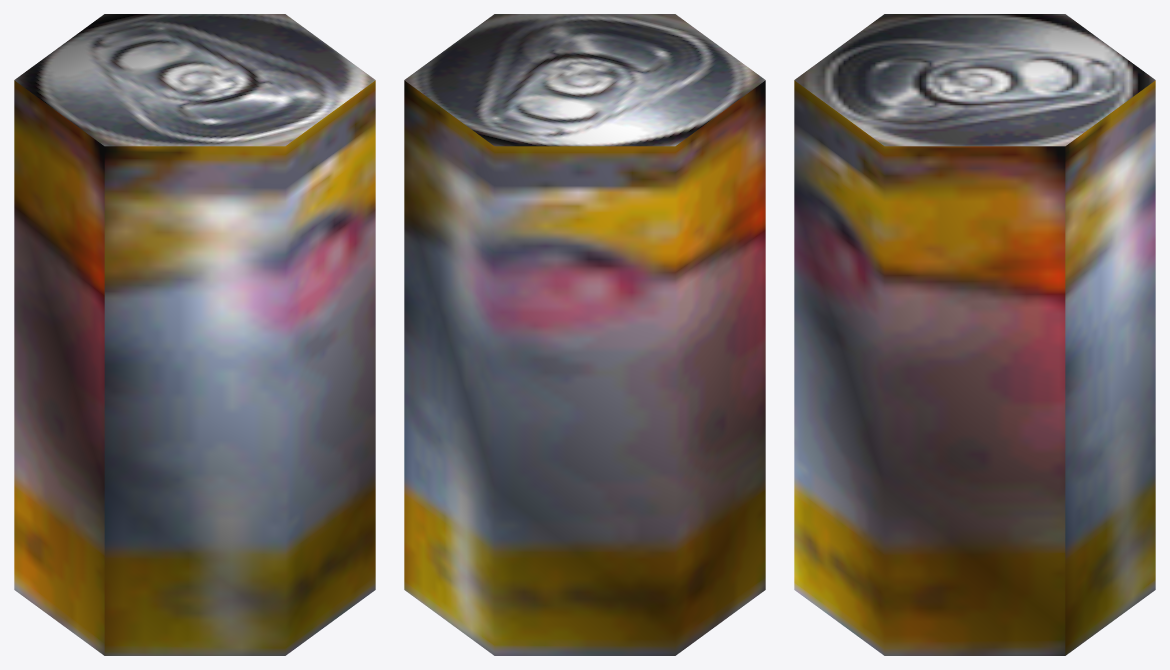
Rendered from can_2.glb.
3 renders of one model, left to right at view 1: azimuth 30°, elevation 25°; view 2: azimuth 150°, elevation 25°; view 3: azimuth 270°, elevation 25°, orthographic.
Visible parts, largest first — view 1: Can_2; view 2: Can_2; view 3: Can_2.
Part boxes in pixels (x1,y1,x2,y2): Can_2: (14,14,375,655); Can_2: (404,14,765,655); Can_2: (794,14,1155,655).
Bounding box in the file's own units: 0.1956 × 0.3512 × 0.2259.
1 material, 1 textured.
